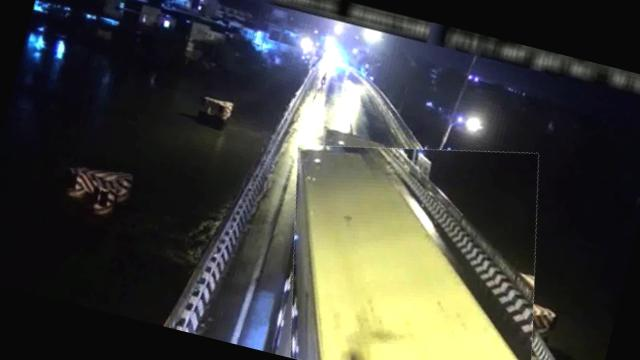Truck: (257, 110, 572, 360)
